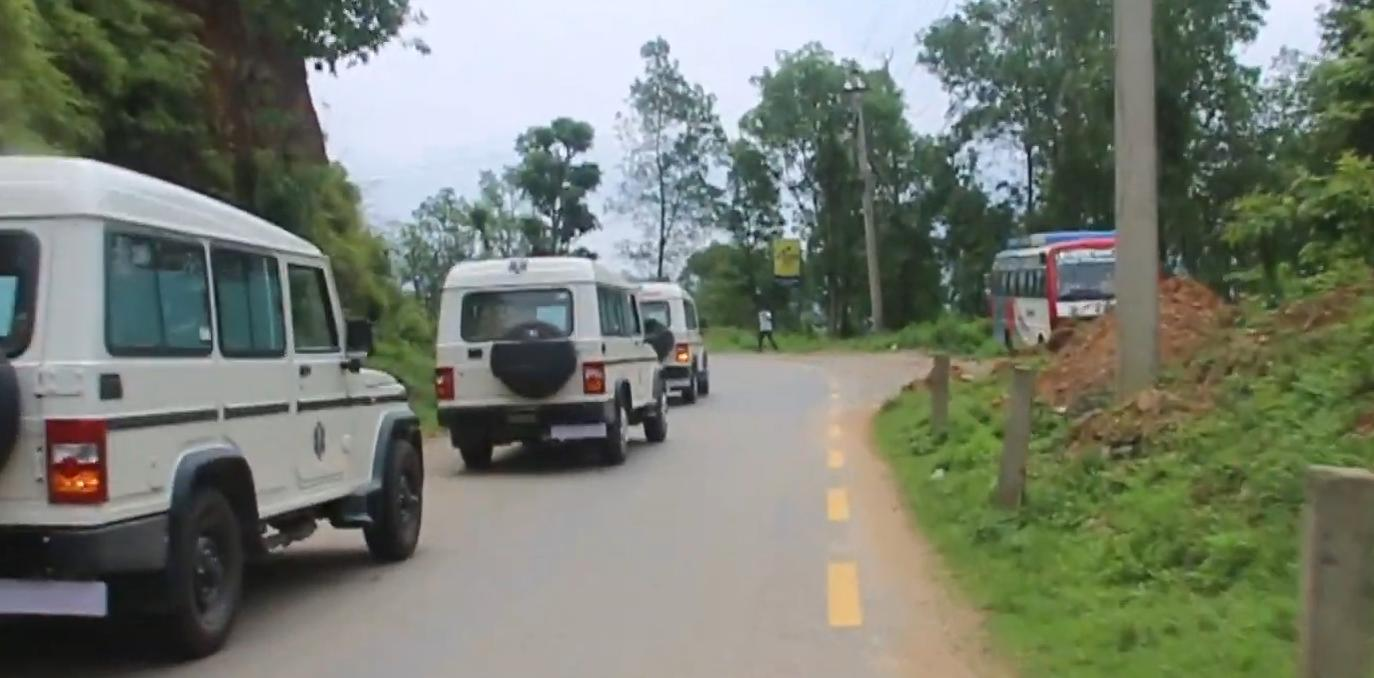ambulance: (422, 240, 672, 465)
